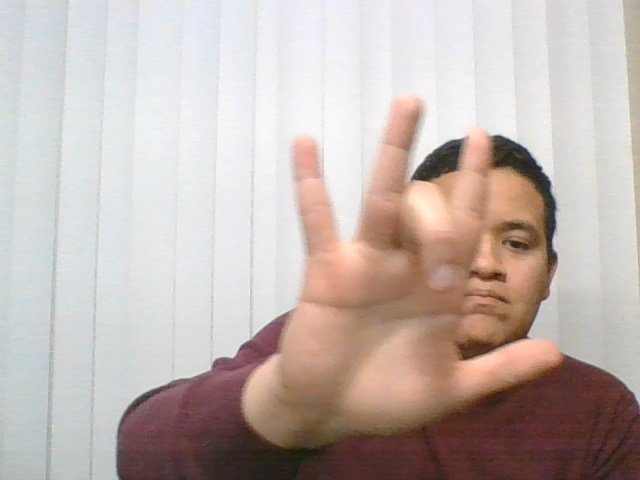Eight: (221, 79, 582, 451)
